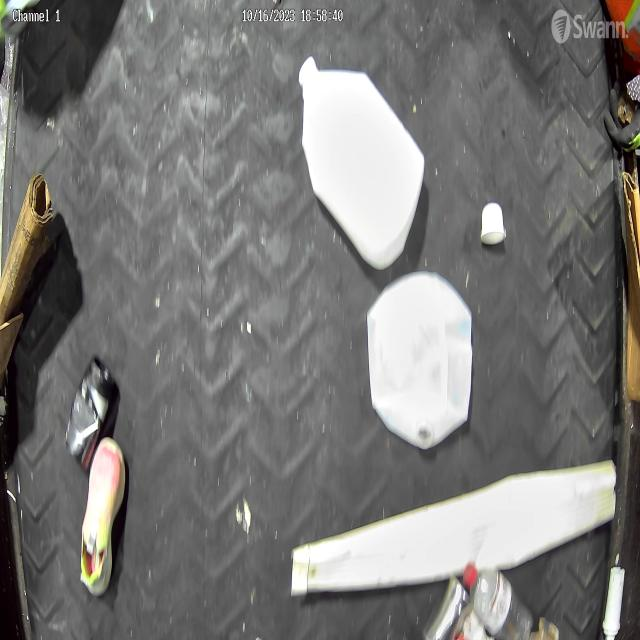can: (421, 573, 472, 640)
milk_jug: (298, 51, 426, 272), (367, 273, 473, 451)
plastic_bottle: (463, 563, 533, 640)
